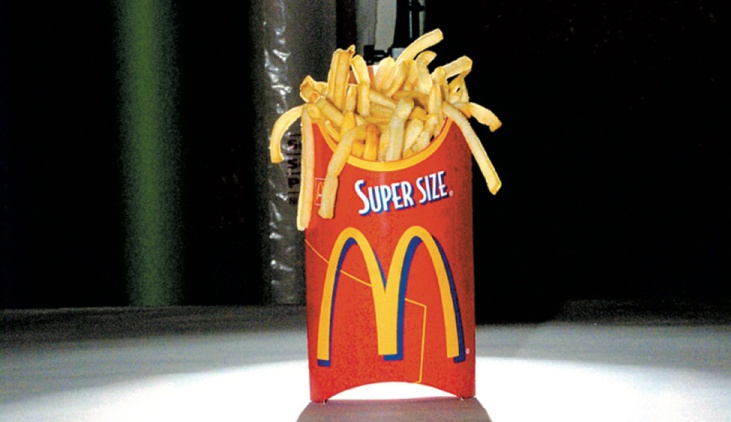mcdonalds: (313, 222, 470, 376)
